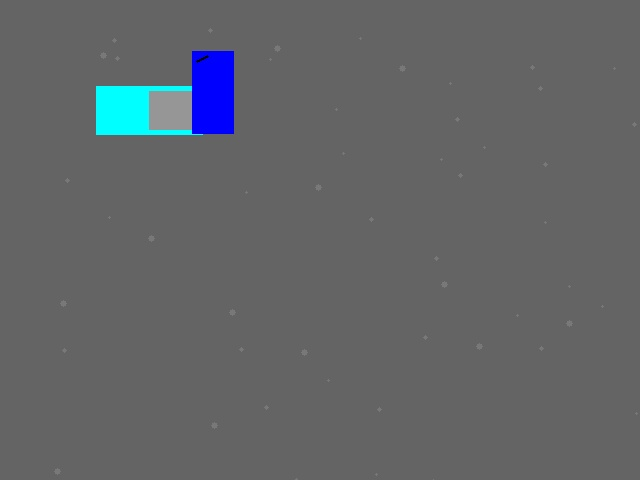motorcycle: (192, 51, 233, 133)
truck: (96, 86, 202, 134)
